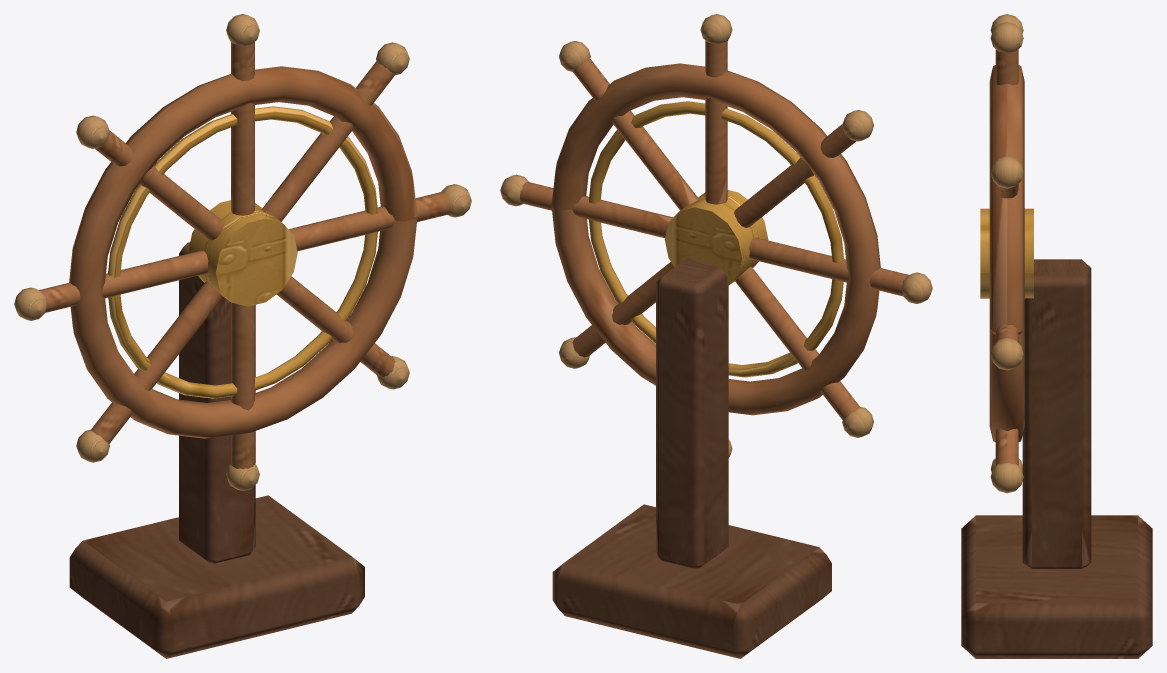
The model's file is SM_Helm.glb.
The picture shows the model from 3 angles, left to right: view 1: azimuth 30°, elevation 25°; view 2: azimuth 150°, elevation 25°; view 3: azimuth 270°, elevation 25°; orthographic projection. The views are drawn at different scales.
Parts seen in each view (by area): view 1: SM_Helm; view 2: SM_Helm; view 3: SM_Helm.
Boxes of the visible parts, x1,y1,x2,y2 form: SM_Helm: (14, 14, 471, 658); SM_Helm: (500, 14, 932, 658); SM_Helm: (961, 14, 1152, 658).
Size of the model in its own units: 1.33 by 1.7 by 0.5.
Materials: 1 (1 with a texture image).
